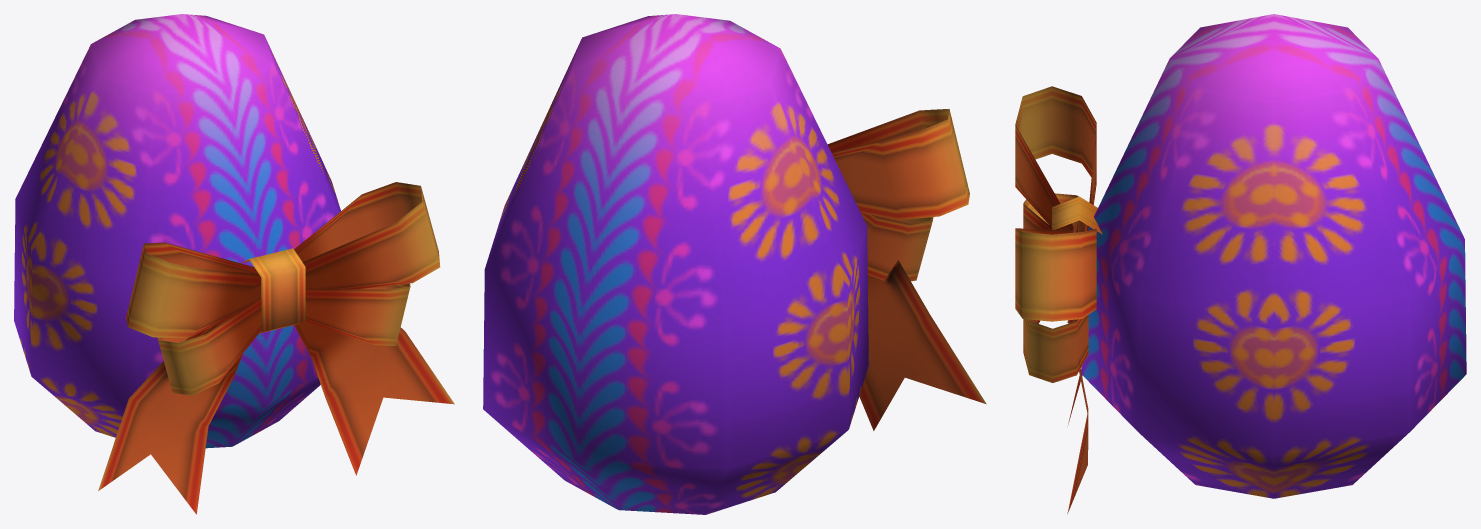
File: Egg_02.FBX
The picture shows the model from 3 angles, left to right: view 1: azimuth 30°, elevation 25°; view 2: azimuth 150°, elevation 25°; view 3: azimuth 270°, elevation 25°; orthographic projection. The views are drawn at different scales.
Parts seen in each view (by area): view 1: Egg_02; view 2: Egg_02; view 3: Egg_02.
Part boxes in pixels (x1,y1,x2,y2): Egg_02: (14,14,454,514); Egg_02: (483,14,986,514); Egg_02: (1015,14,1466,514).
Bounding box in the file's own units: 0.5564 × 0.6156 × 0.551.
